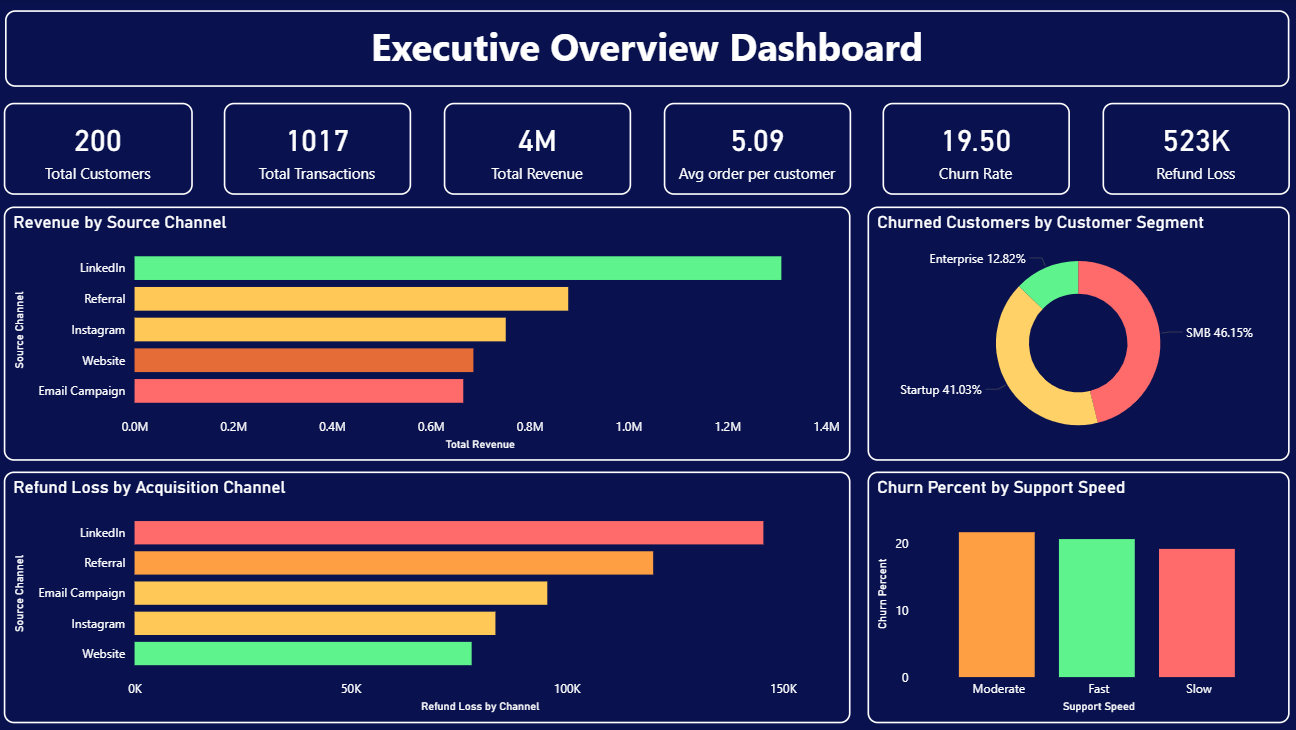

The dashboard page shown, as its layout file describes it:
{"tool":"powerbi","page":{"name":"Executive Overview","canvas":[1280,720],"ordinal":0},"visuals":[{"type":"textbox","box":[9.6,11,1261.1,75.5],"z":0},{"type":"card","fields":{"Values":["customers.total_customer"]},"box":[8.2,101.5,185.2,90.6],"z":1000},{"type":"card","fields":{"Values":["transactions.total_revenue"]},"box":[440.5,101.5,183.9,90.6],"z":2000},{"type":"card","fields":{"Values":["transactions.churn_rate"]},"box":[871.4,101.5,183.9,90.6],"z":3000},{"type":"card","fields":{"Values":["transactions.total_transactions"]},"box":[225,101.5,183.9,90.6],"z":4000},{"type":"card","fields":{"Values":["transactions.refund_loss"]},"box":[1086.8,101.5,183.9,90.6],"z":5000},{"type":"card","fields":{"Values":["transactions.avg_orders_per_customer"]},"box":[655.9,101.5,183.9,90.6],"z":6000},{"type":"clusteredBarChart","title":"Revenue by Source Channel","fields":{"Category":["customers.source_channel"],"Y":["transactions.total_revenue"]},"box":[8.2,203.1,831.6,249.7],"z":7000},{"type":"donutChart","fields":{"Category":["customers.customer_segment"],"Y":["transactions.Churned Customers"]},"box":[856.3,203.1,414.4,249.7],"z":8000},{"type":"clusteredBarChart","title":"Refund Loss by Acquisition Channel","fields":{"Category":["customers.source_channel"],"Y":["transactions.Refund Loss by Channel"]},"box":[8.2,463.8,831.6,247],"z":9000},{"type":"clusteredColumnChart","fields":{"Category":["support_churn.support_speed"],"Y":["Sum(support_churn.churn_percent)"]},"box":[856.3,463.8,414.4,247],"z":10000}]}

Visuals, with their boxes in screenshot pixels (x1, y1, x2, y2), scaled from the page's 1280x720 canvas onto the 1296x730 screenshot:
textbox: crop(10, 11, 1287, 88)
card - customers.total_customer: crop(8, 103, 196, 195)
card - transactions.total_revenue: crop(446, 103, 632, 195)
card - transactions.churn_rate: crop(882, 103, 1068, 195)
card - transactions.total_transactions: crop(228, 103, 414, 195)
card - transactions.refund_loss: crop(1100, 103, 1287, 195)
card - transactions.avg_orders_per_customer: crop(664, 103, 850, 195)
"Revenue by Source Channel" clusteredBarChart: crop(8, 206, 850, 459)
donutChart - customers.customer_segment x transactions.Churned Customers: crop(867, 206, 1287, 459)
"Refund Loss by Acquisition Channel" clusteredBarChart: crop(8, 470, 850, 721)
clusteredColumnChart - support_churn.support_speed x Sum(support_churn.churn_percent): crop(867, 470, 1287, 721)
